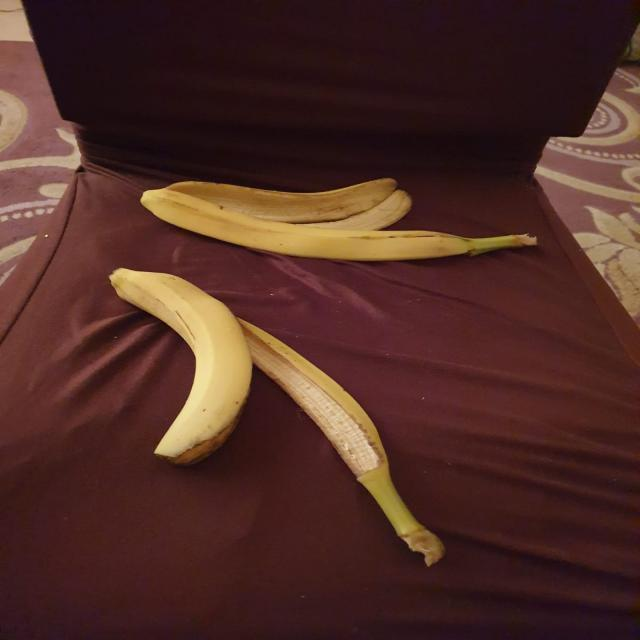banana-peel: (107, 265, 446, 567), (138, 175, 538, 262), (107, 265, 252, 467)
